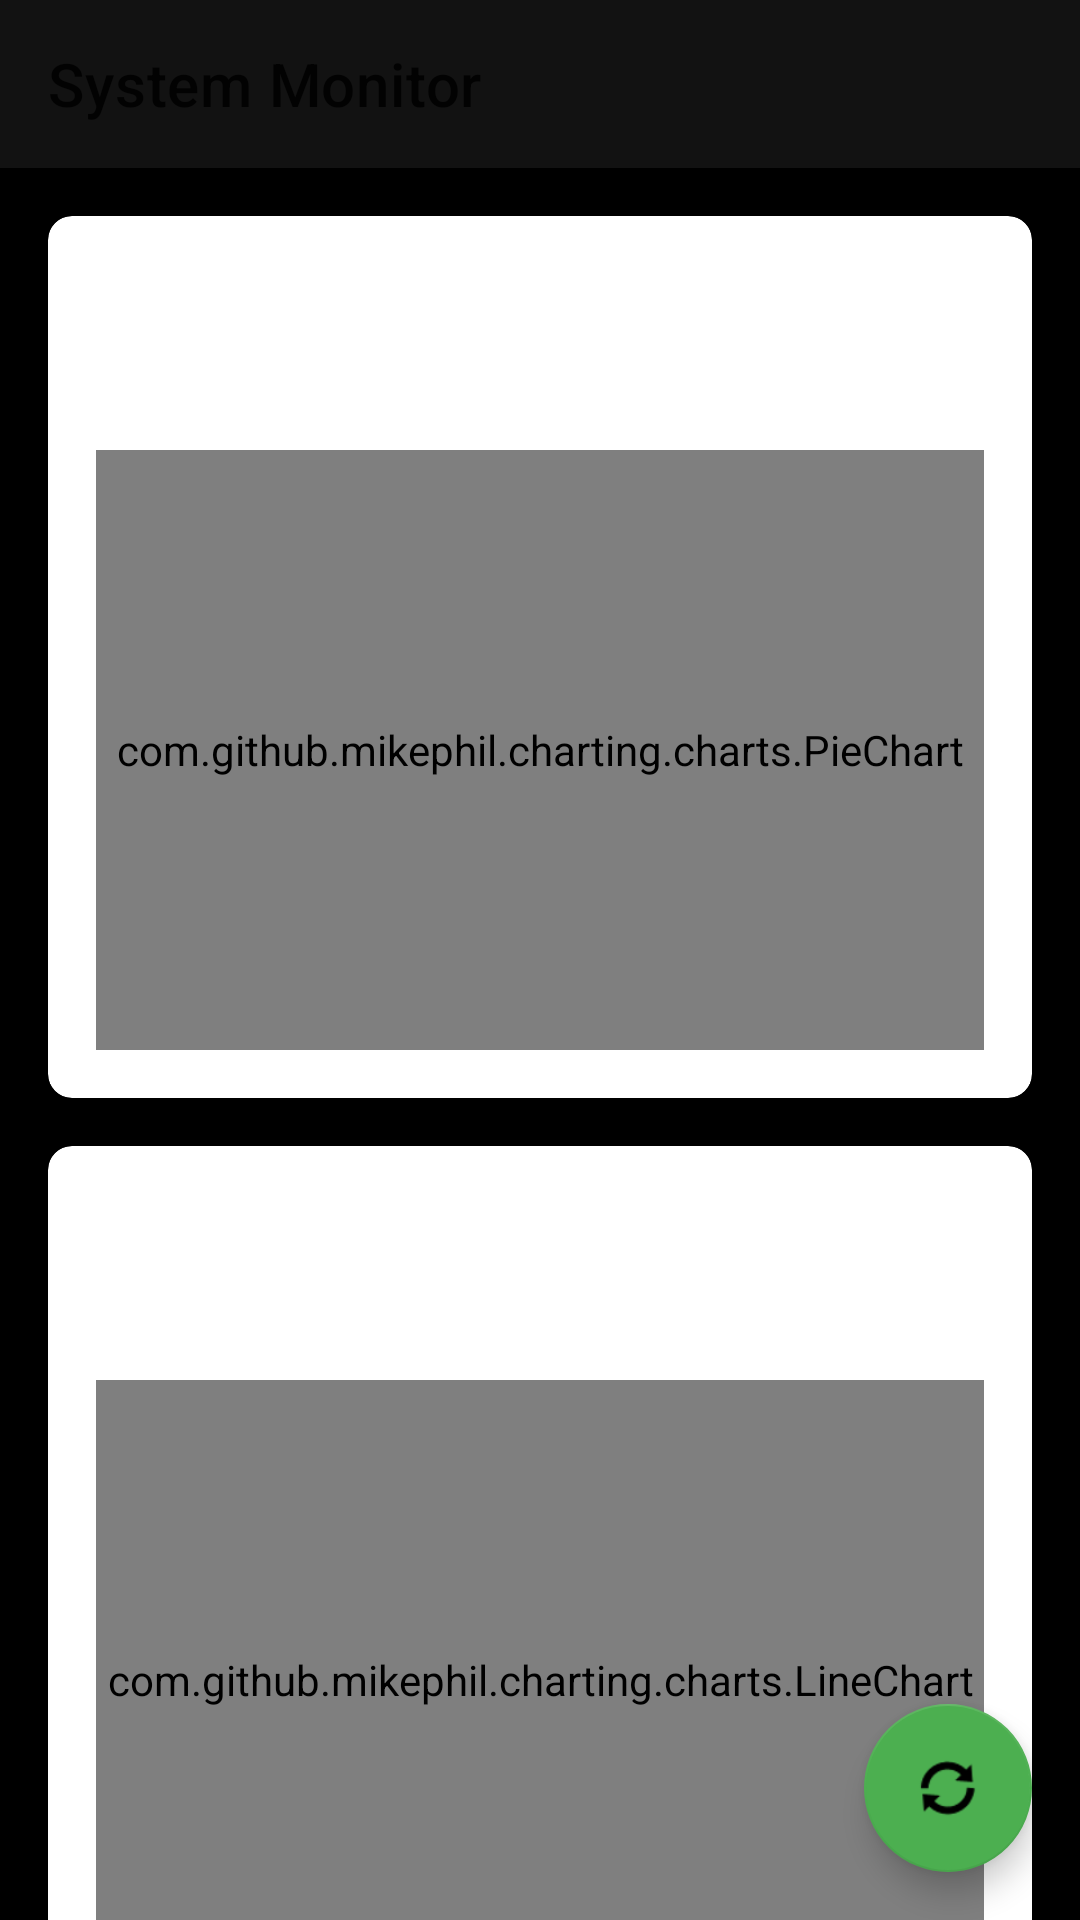

Locate icon controls on the screen. Image size 1080 x 1920, boxes as (x1, y1, x2, y2).
Refresh system info: (864, 1704, 1032, 1872)
